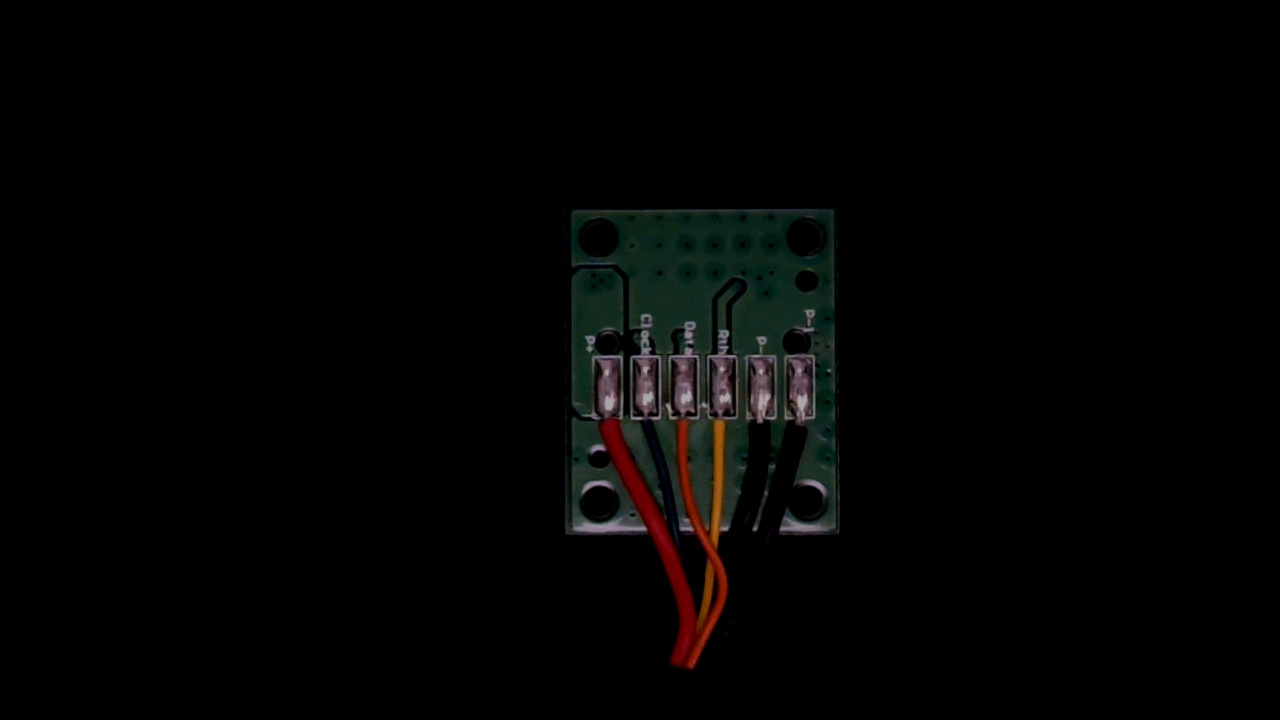Black: (748, 403, 776, 469)
Black1: (785, 403, 818, 470)
Green: (629, 401, 664, 456)
Orange: (670, 402, 701, 467)
Red: (593, 400, 623, 469)
Yellow: (707, 402, 741, 476)
